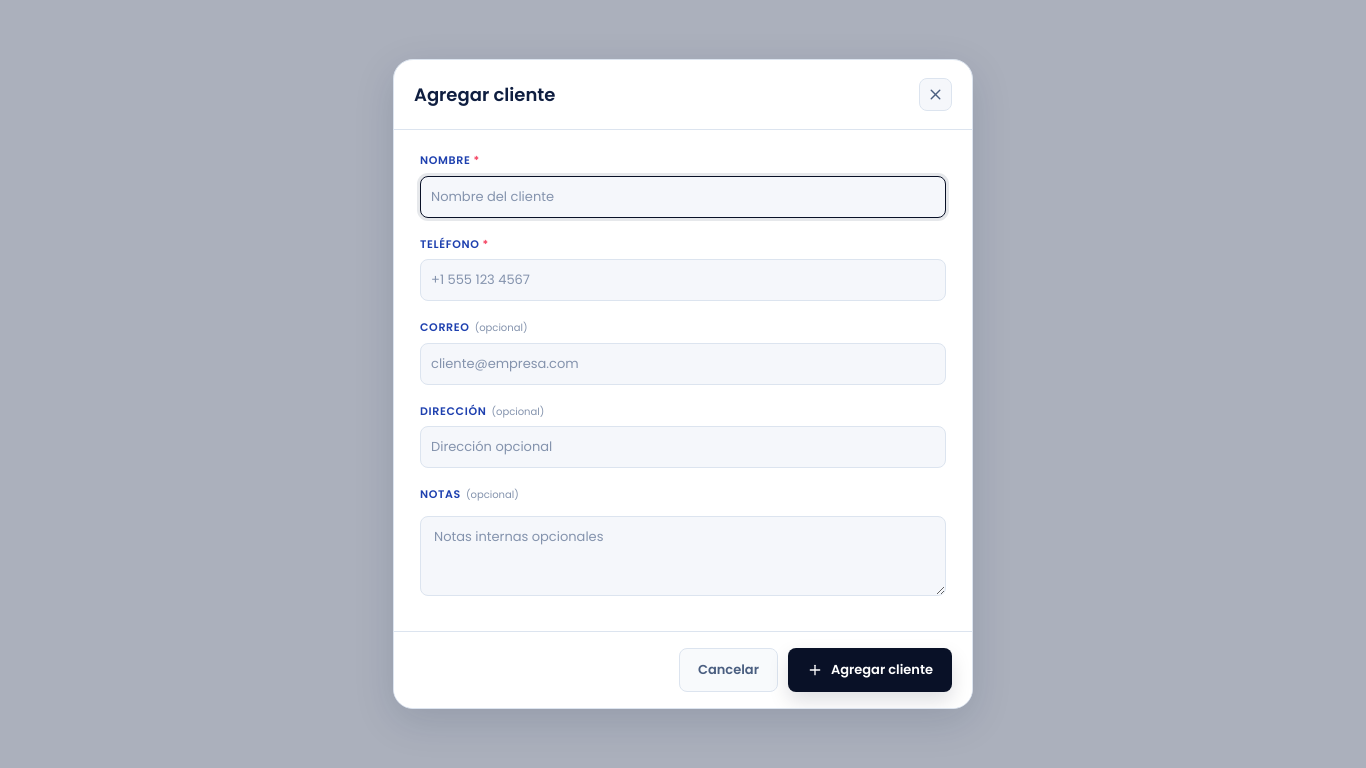
Test case: registro de cliente desde credito en cotizacion › advierte cuando el nombre exacto ya existe y limpia la advertencia al cambiarlo
Type "cliente ambar" into the field with placeholder "Nombre del cliente" at point(683, 196), box [420, 176, 946, 218]
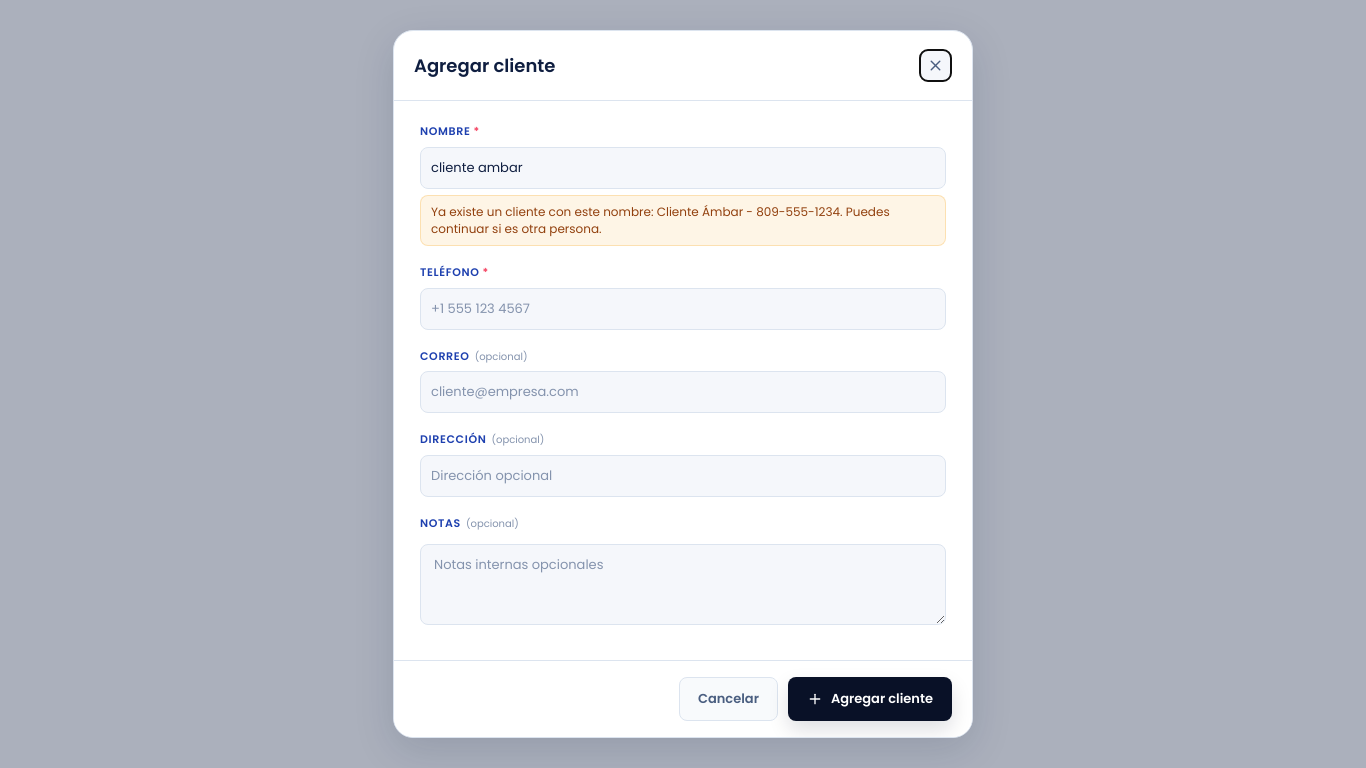
Now the text "Ya existe un cliente con este nombre: Cliente Ámbar - 809-555-1234" is shown, box [420, 195, 946, 246]
Replace the text in the field with placeholder "Nombre del cliente" with "Cliente Nuevo" at point(683, 168), box [420, 147, 946, 189]
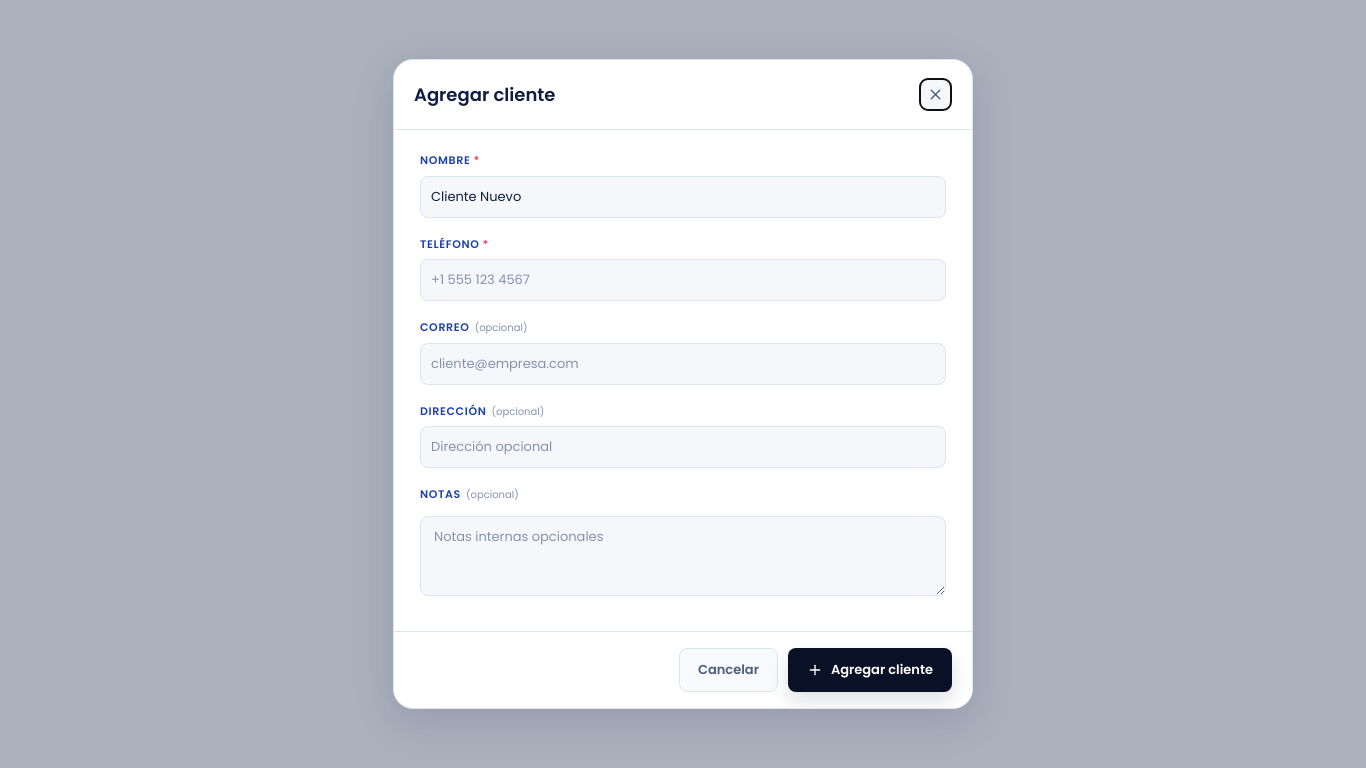
Now the text "Ya existe un cliente con este nombre" is gone
